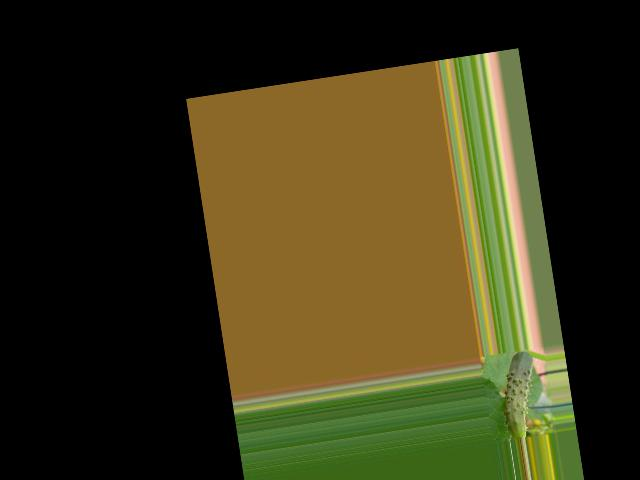cucumber: (494, 349, 543, 440)
